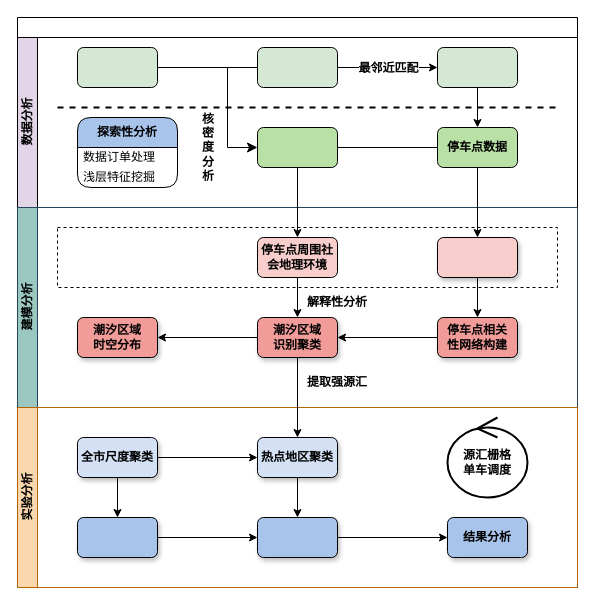
Image size: 595x605. Some labels were removed from this diagram. Each missing label, with the centre of its shape:
POI 数据: the point at 117,67
停车点之间的距离: the point at 478,258
土地利用类型数据: the point at 297,147
地理栅格数据: the point at 297,67
潮汐特征 识别: the point at 118,538
电子订单数据: the point at 477,67
订单需求预测: the point at 298,538
